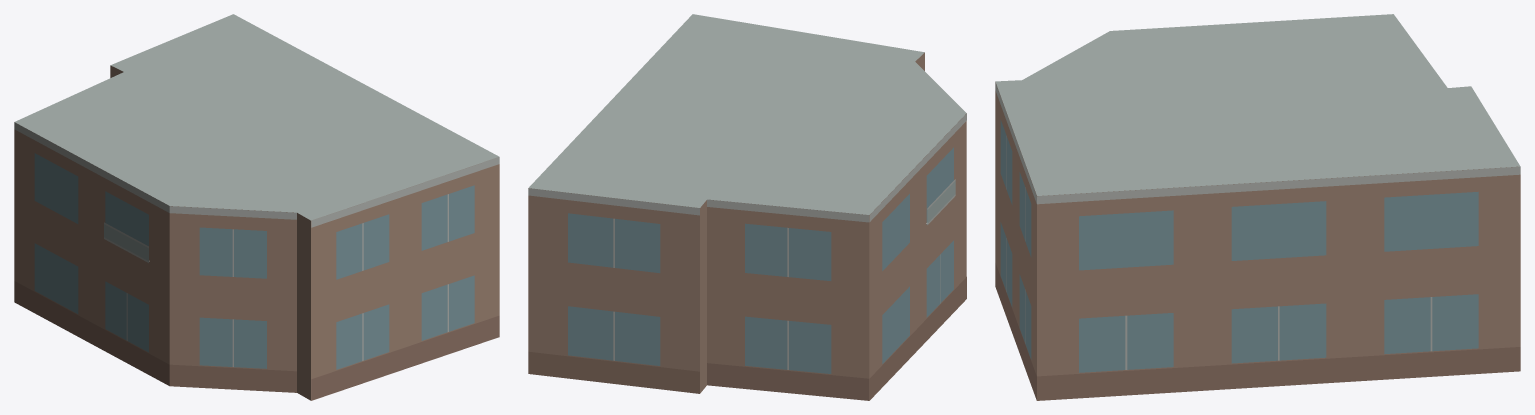
File: survey-upis-32759132.glb
The picture shows the model from 3 angles, left to right: view 1: azimuth 30°, elevation 25°; view 2: azimuth 150°, elevation 25°; view 3: azimuth 270°, elevation 25°; orthographic projection. The views are drawn at different scales.
Parts seen in each view (by area): view 1: survey-upis-32759132.tmp; view 2: survey-upis-32759132.tmp; view 3: survey-upis-32759132.tmp.
Boxes of the visible parts, box(x1,y1,x2,y2) form: survey-upis-32759132.tmp: box(14, 14, 499, 400); survey-upis-32759132.tmp: box(528, 14, 966, 400); survey-upis-32759132.tmp: box(995, 14, 1520, 400).
Bounding box in the file's own units: 11.64 × 6.1 × 14.19.
